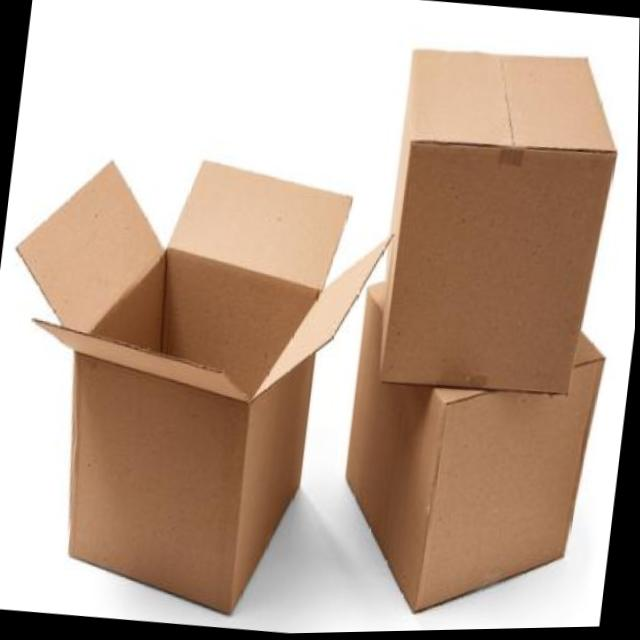box: (0, 46, 409, 640), (352, 25, 633, 424), (314, 277, 616, 634)
